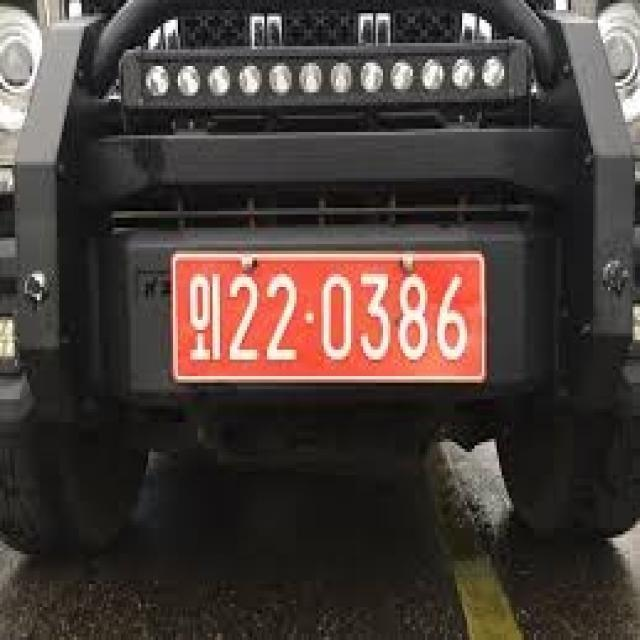License Plate: (172, 248, 488, 384)
